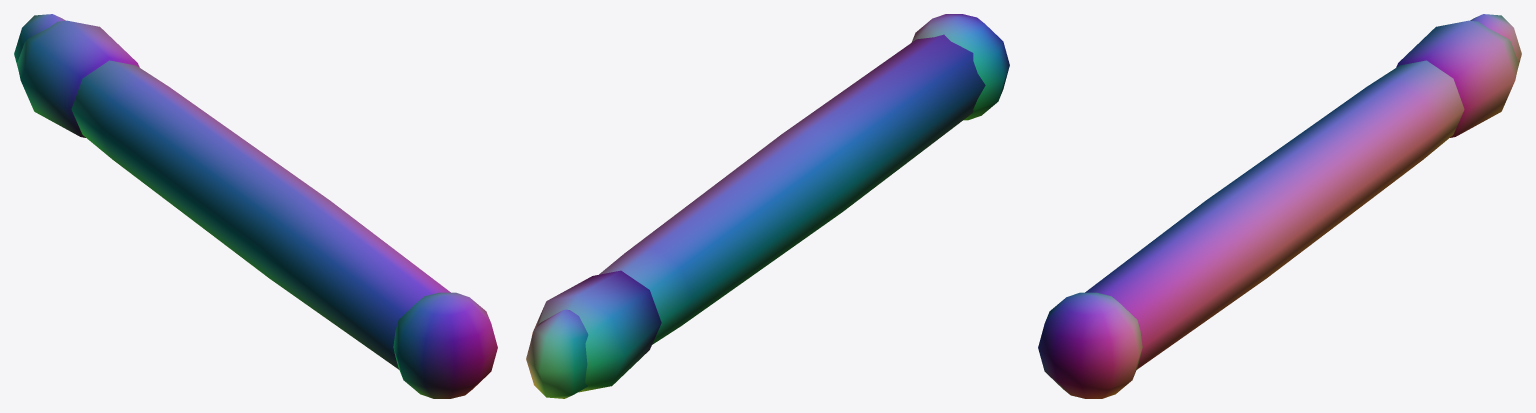
File: SM_MonWeapon_Flail.fbx
3 views of the same model, side by side, from view 1: azimuth 30°, elevation 25°; view 2: azimuth 150°, elevation 25°; view 3: azimuth 330°, elevation 25° (orthographic).
Visible parts, largest first — view 1: SM_MonWeapon_Flail; view 2: SM_MonWeapon_Flail; view 3: SM_MonWeapon_Flail.
Boxes of the visible parts, x1,y1,x2,y2 form: SM_MonWeapon_Flail: [14, 14, 497, 398]; SM_MonWeapon_Flail: [526, 14, 1009, 398]; SM_MonWeapon_Flail: [1038, 14, 1521, 398].
Size of the model in its own units: 0.069 by 0.069 by 0.5541.
